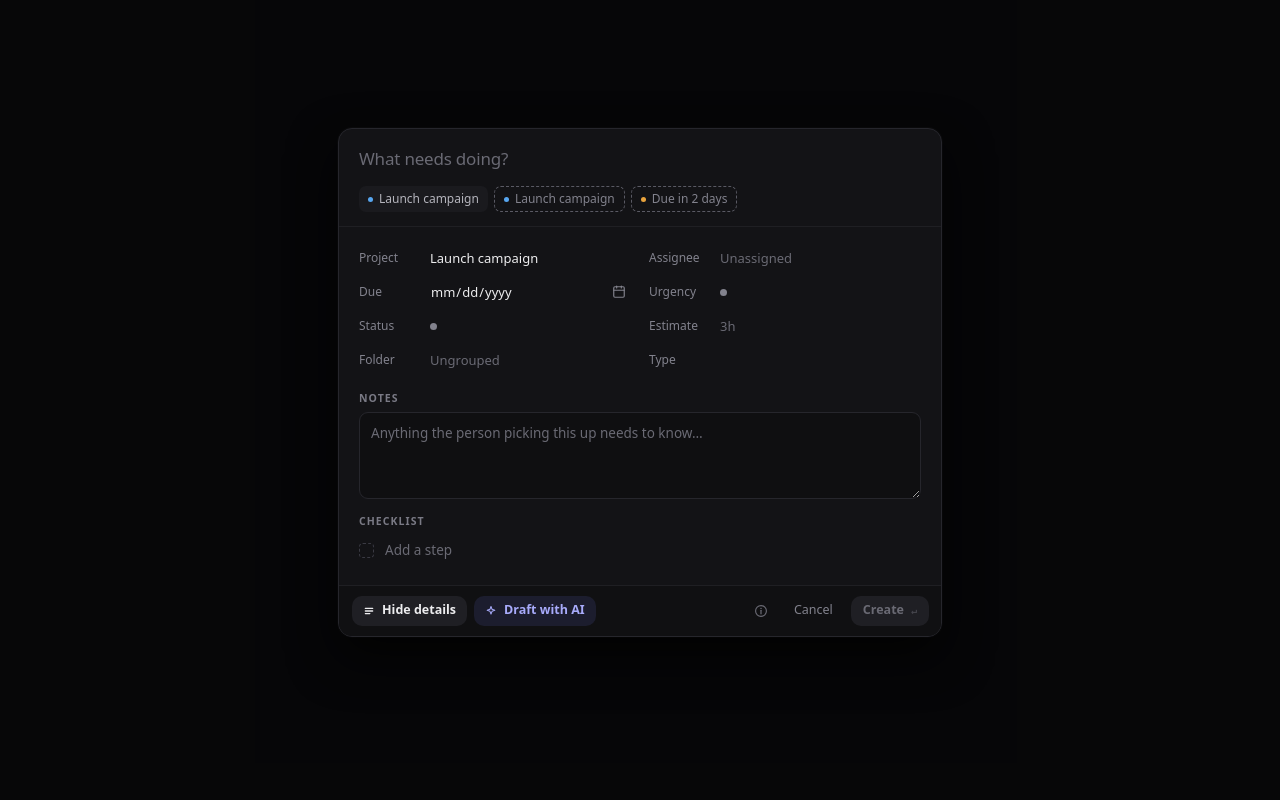
Test: CreateTaskModal › searches folder paths and reports no matches
The image size is (1280, 800).
Click the button "Folder Ungrouped" at (495, 360), box top-left (350, 344), bottom-right (640, 376)
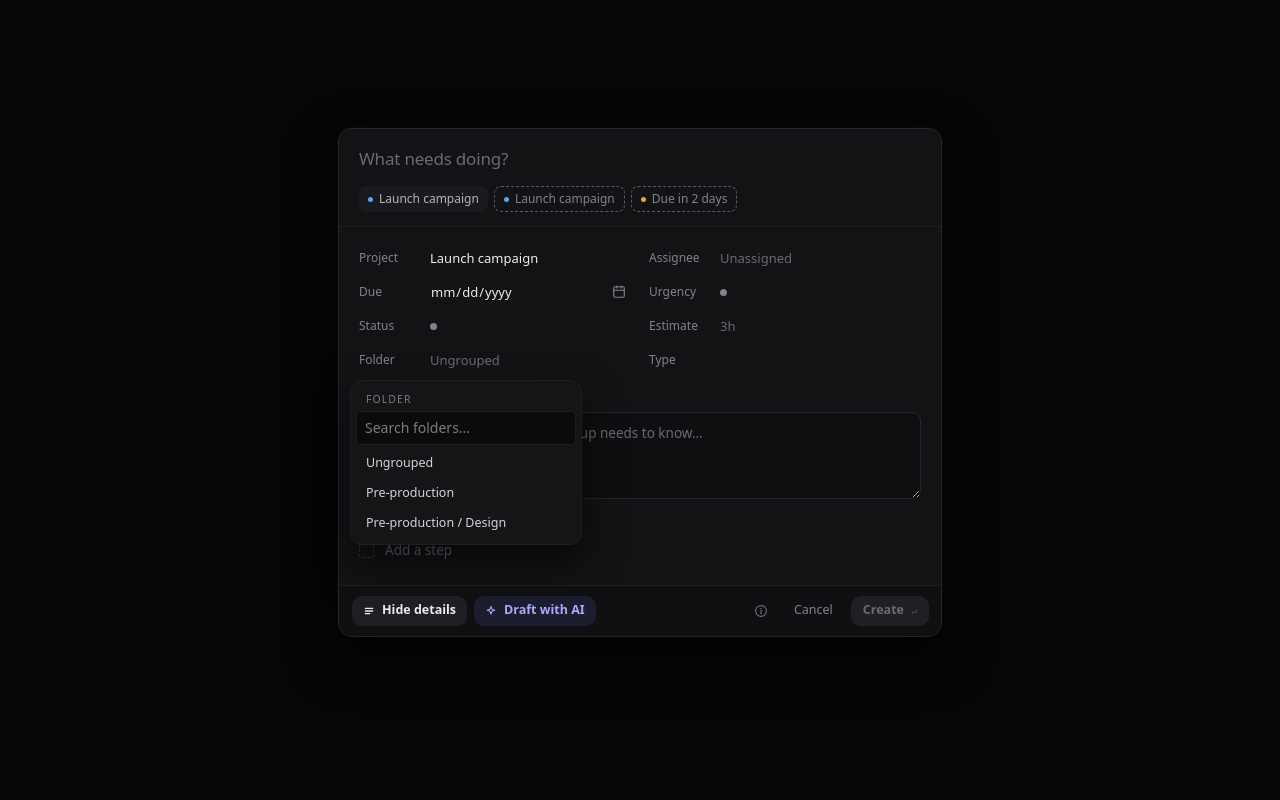
Type "design" into the field labelled "Search folders" at (466, 428), box top-left (356, 411), bottom-right (576, 445)
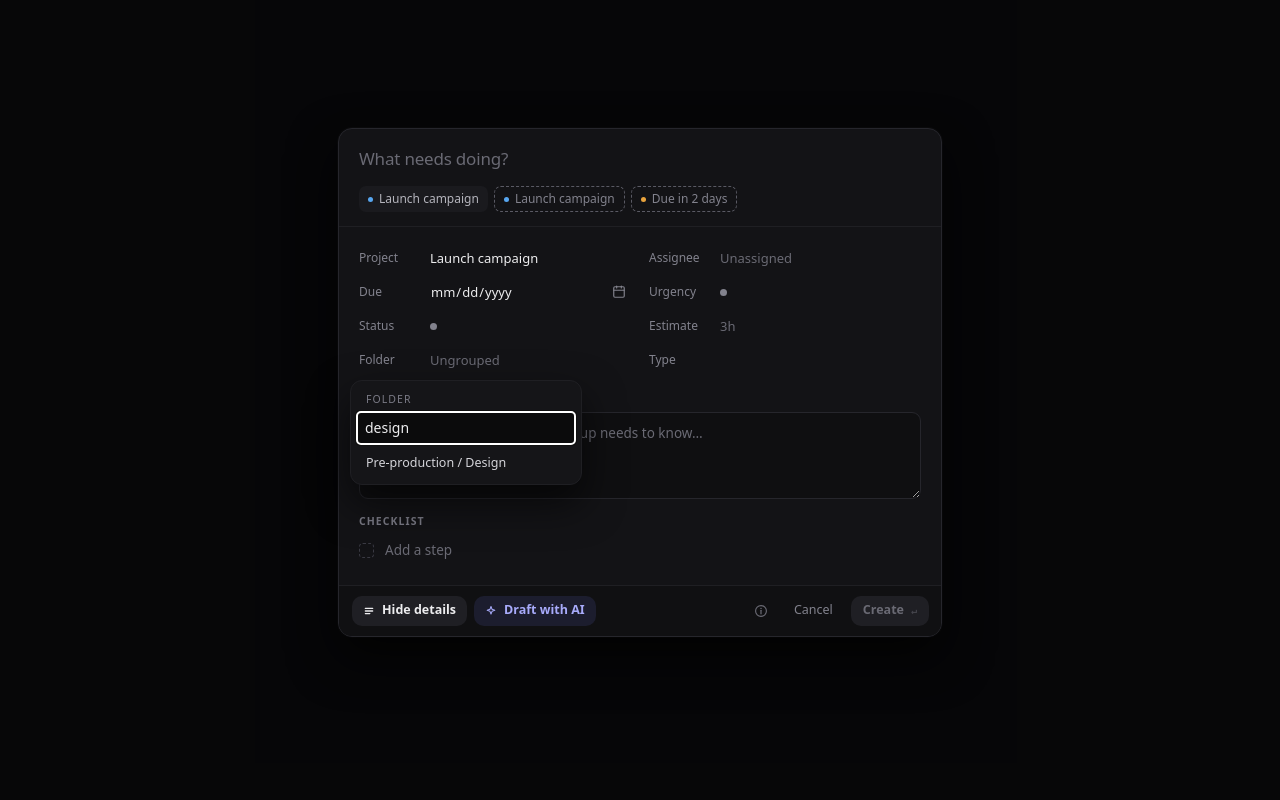
Now the menu item "Pre-production / Design" is shown, box top-left (366, 454), bottom-right (506, 471)
Replace the text in the field named "Search folders" with "no-such-folder" at (466, 428), box top-left (356, 411), bottom-right (576, 445)
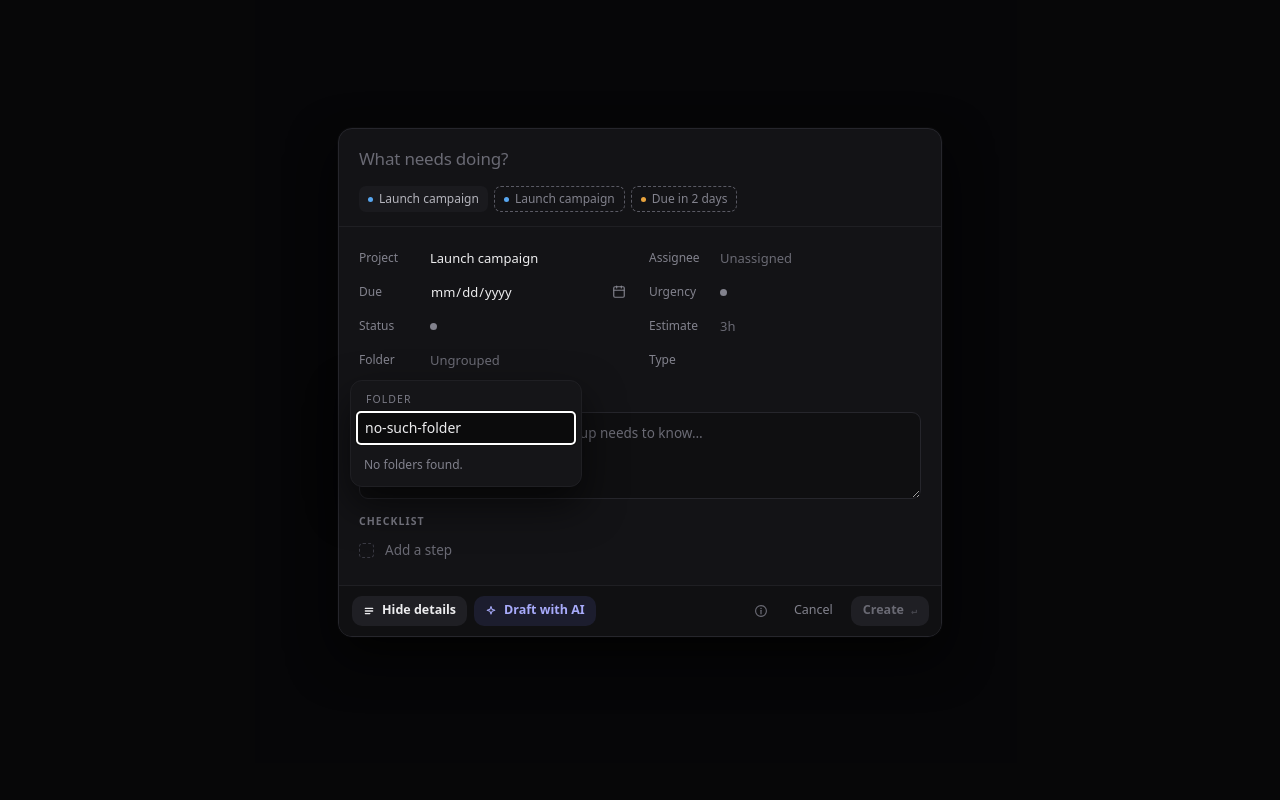
Now the text "No folders found." is shown, box top-left (364, 456), bottom-right (463, 473)
